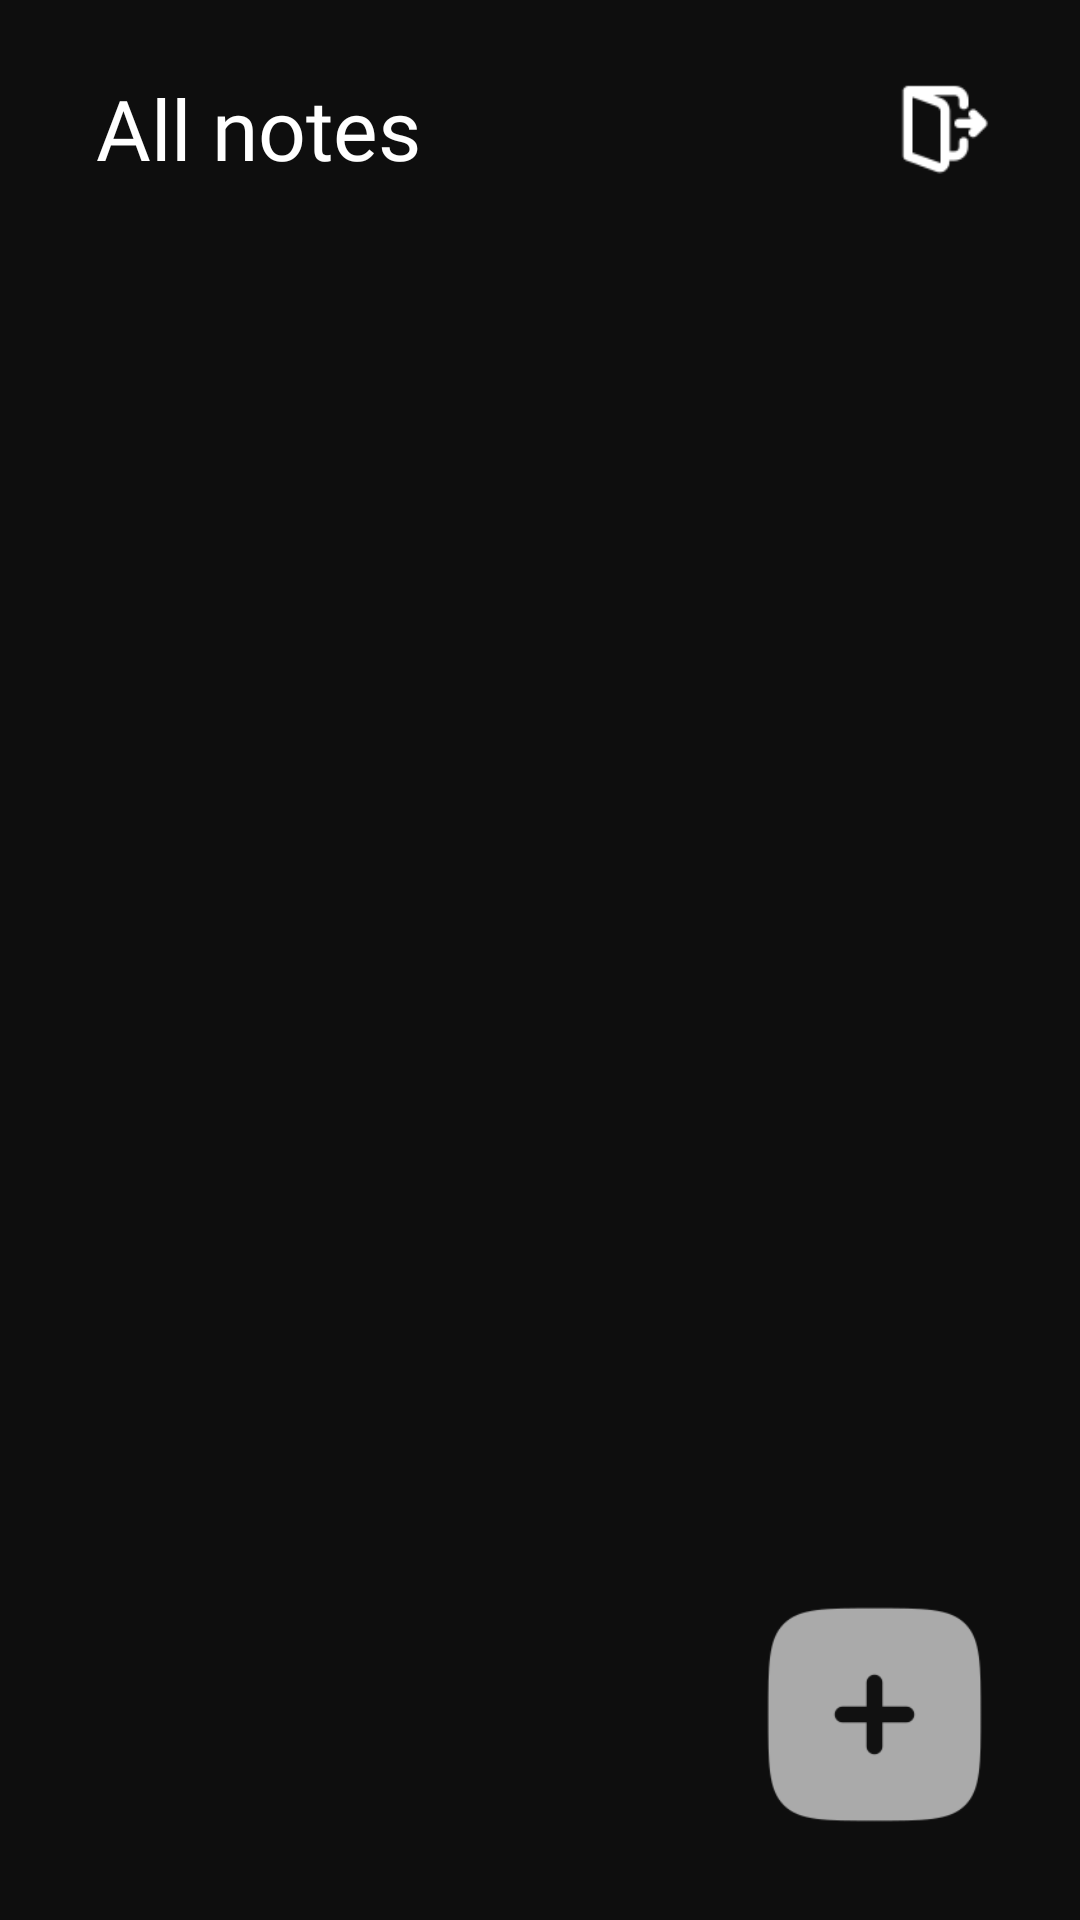

Screen size 1080px x 1920px. Icon name, then its box in pixels as {"x1": x1, "y1": y1, "x2": x2, "y2": y2}:
plus: {"x1": 767, "y1": 1607, "x2": 982, "y2": 1822}
